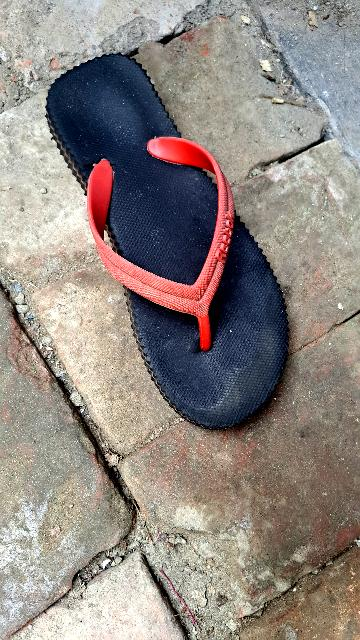sandal: (20, 26, 325, 437)
